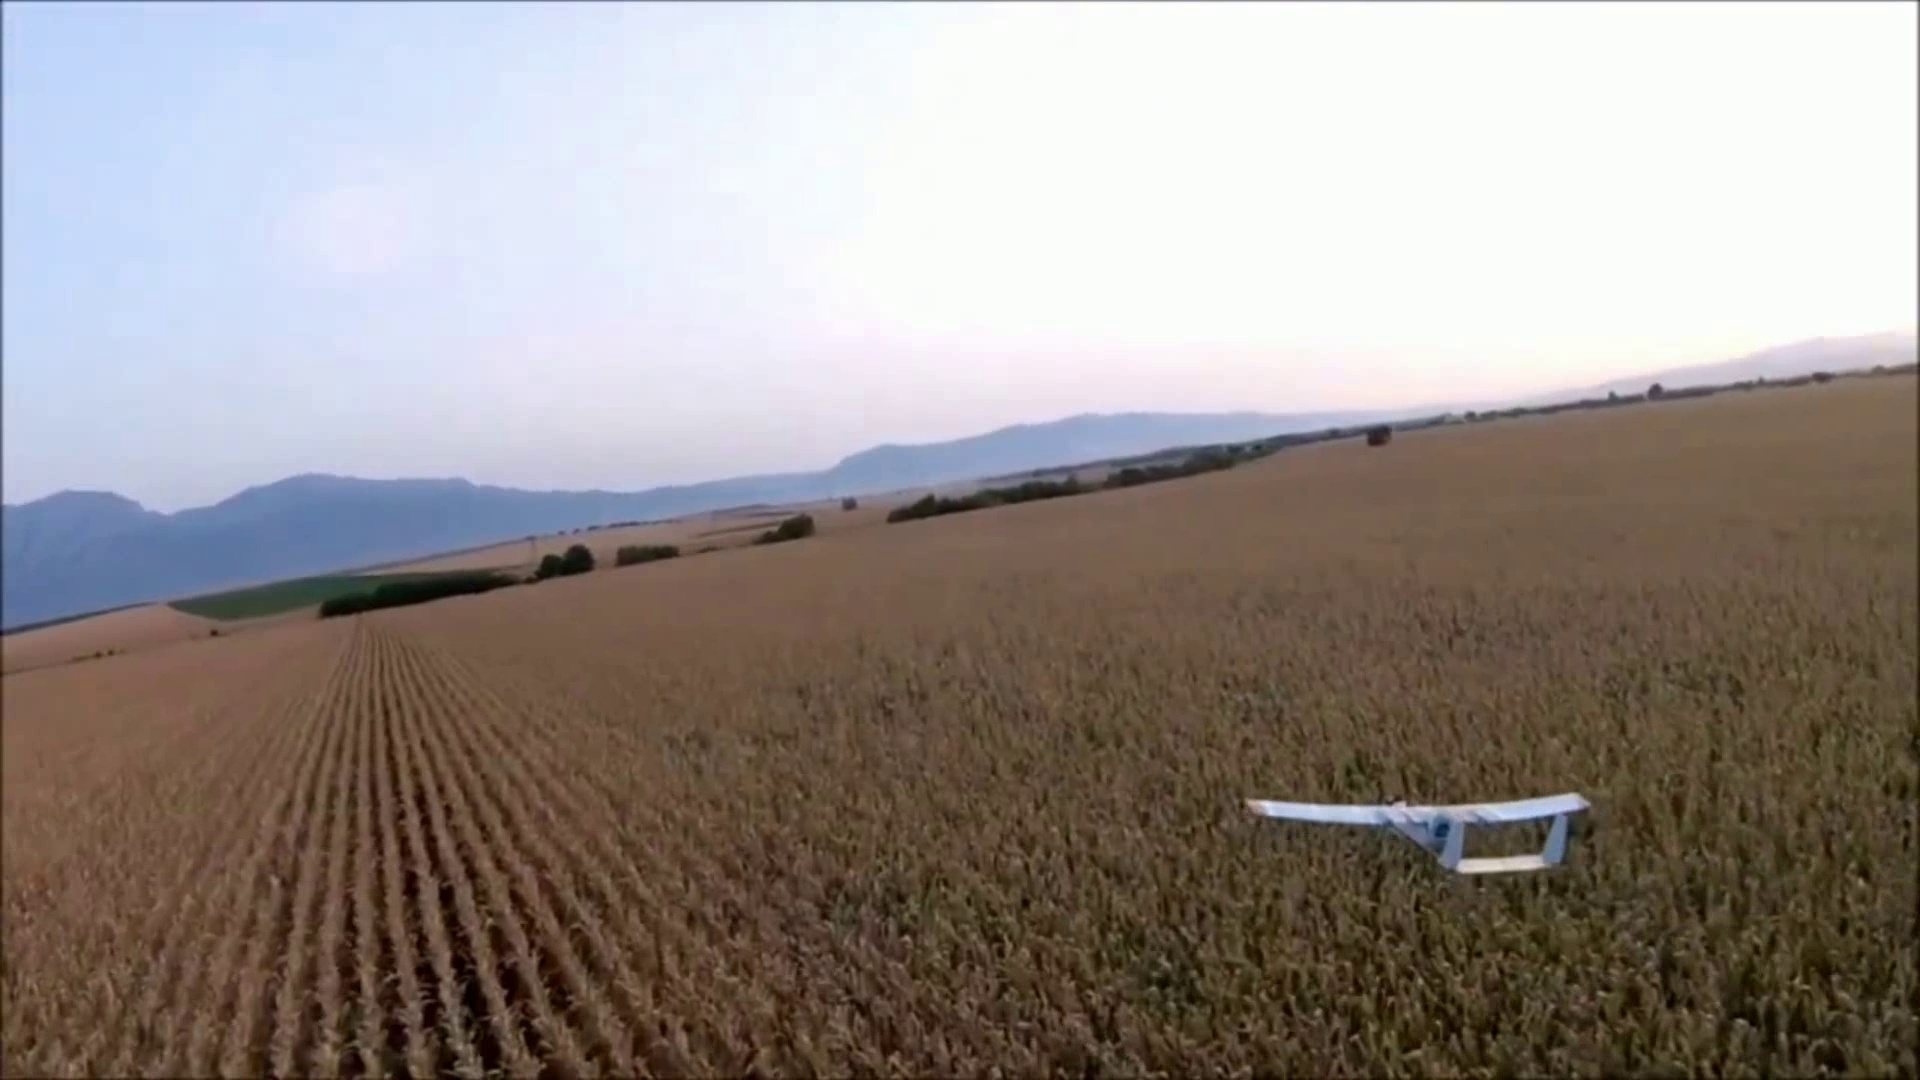airplane: (1247, 796, 1593, 882)
